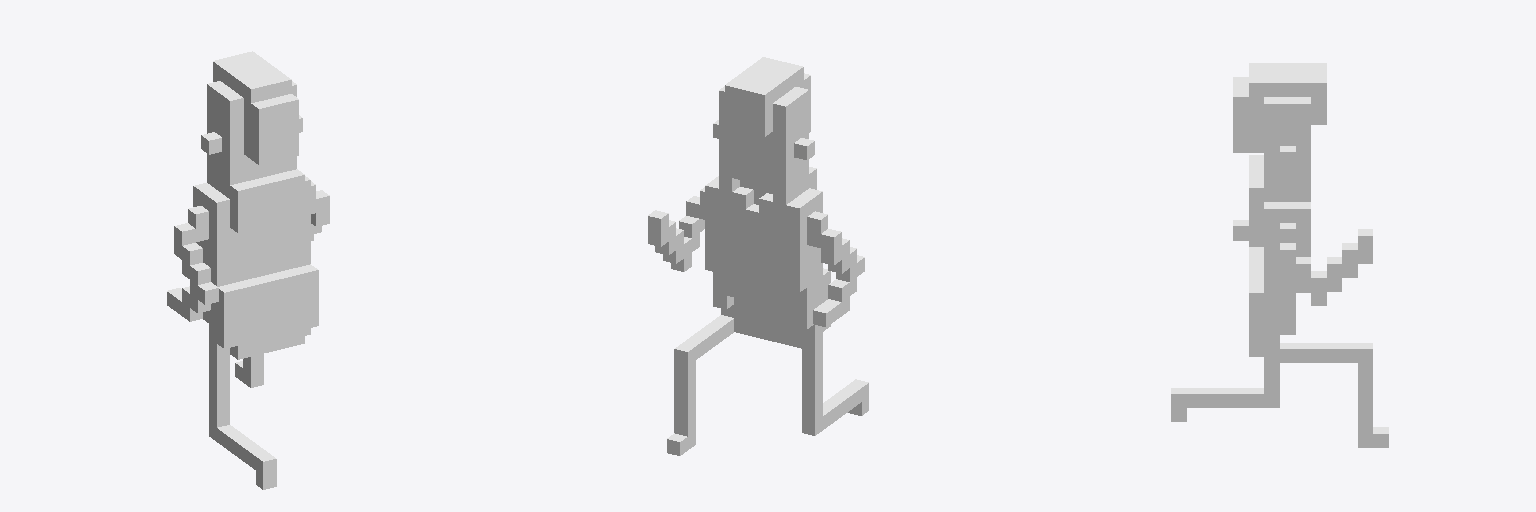
File: character_One_Run1-03.obj
3 renders of one model, left to right at view 1: azimuth 30°, elevation 25°; view 2: azimuth 150°, elevation 25°; view 3: azimuth 270°, elevation 25°, orthographic.
Size of the model in its own units: 11 by 26 by 14.